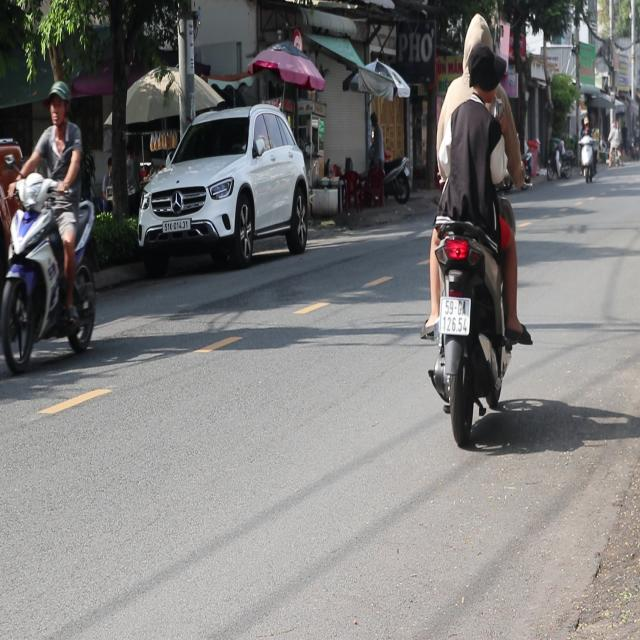helmet: (461, 13, 495, 68), (46, 80, 71, 130)
licenseplate: (418, 14, 532, 442), (0, 76, 101, 371)
motorcyclist: (466, 45, 503, 101)
nohelmet: (439, 296, 470, 334)
